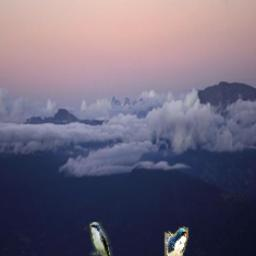Swallow: (89, 222, 113, 256), (164, 226, 188, 256)
